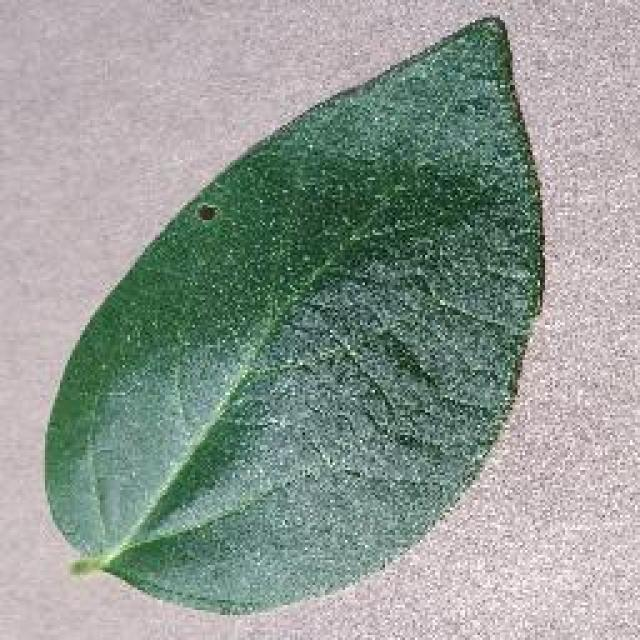Soy_healthy: (125, 134, 512, 563)
